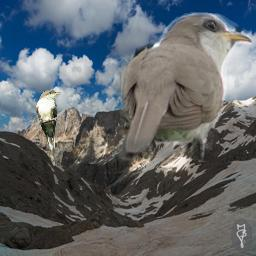Cuckoo: (115, 12, 252, 162), (36, 89, 61, 167)
